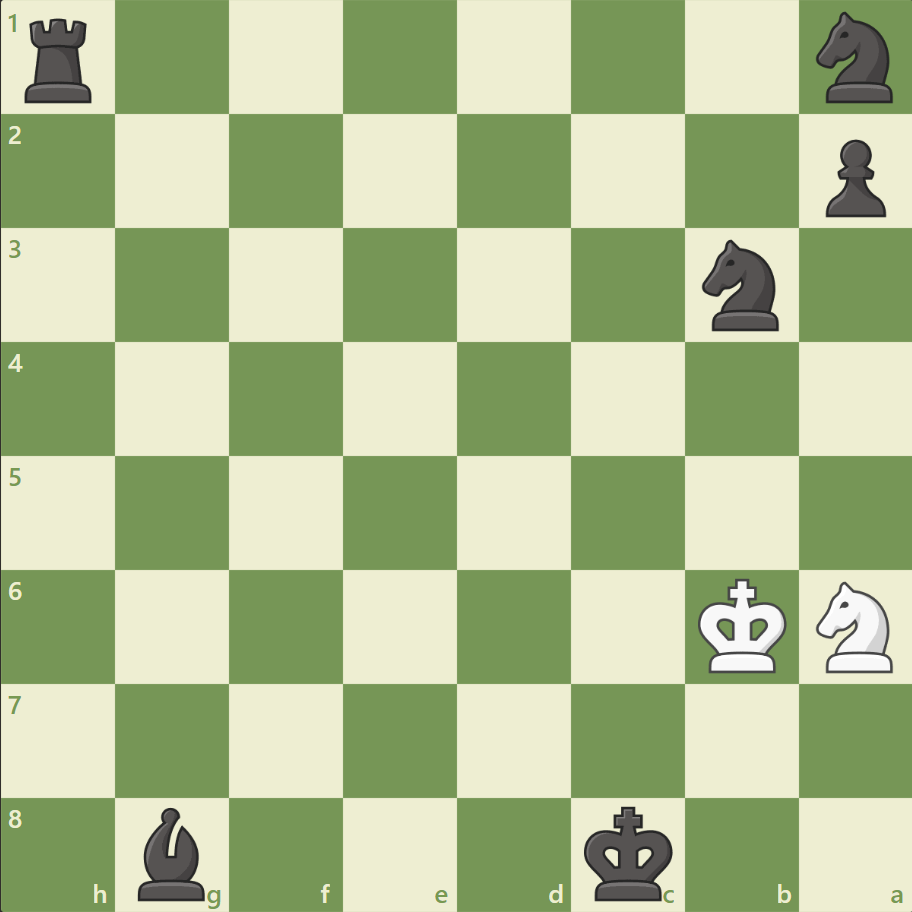K: (692, 571, 792, 679)
N: (806, 575, 903, 677)
b: (131, 801, 215, 904)
k: (579, 798, 679, 906)
n: (692, 234, 789, 337), (806, 7, 903, 110)
p: (815, 132, 889, 223)
r: (19, 12, 102, 109)
